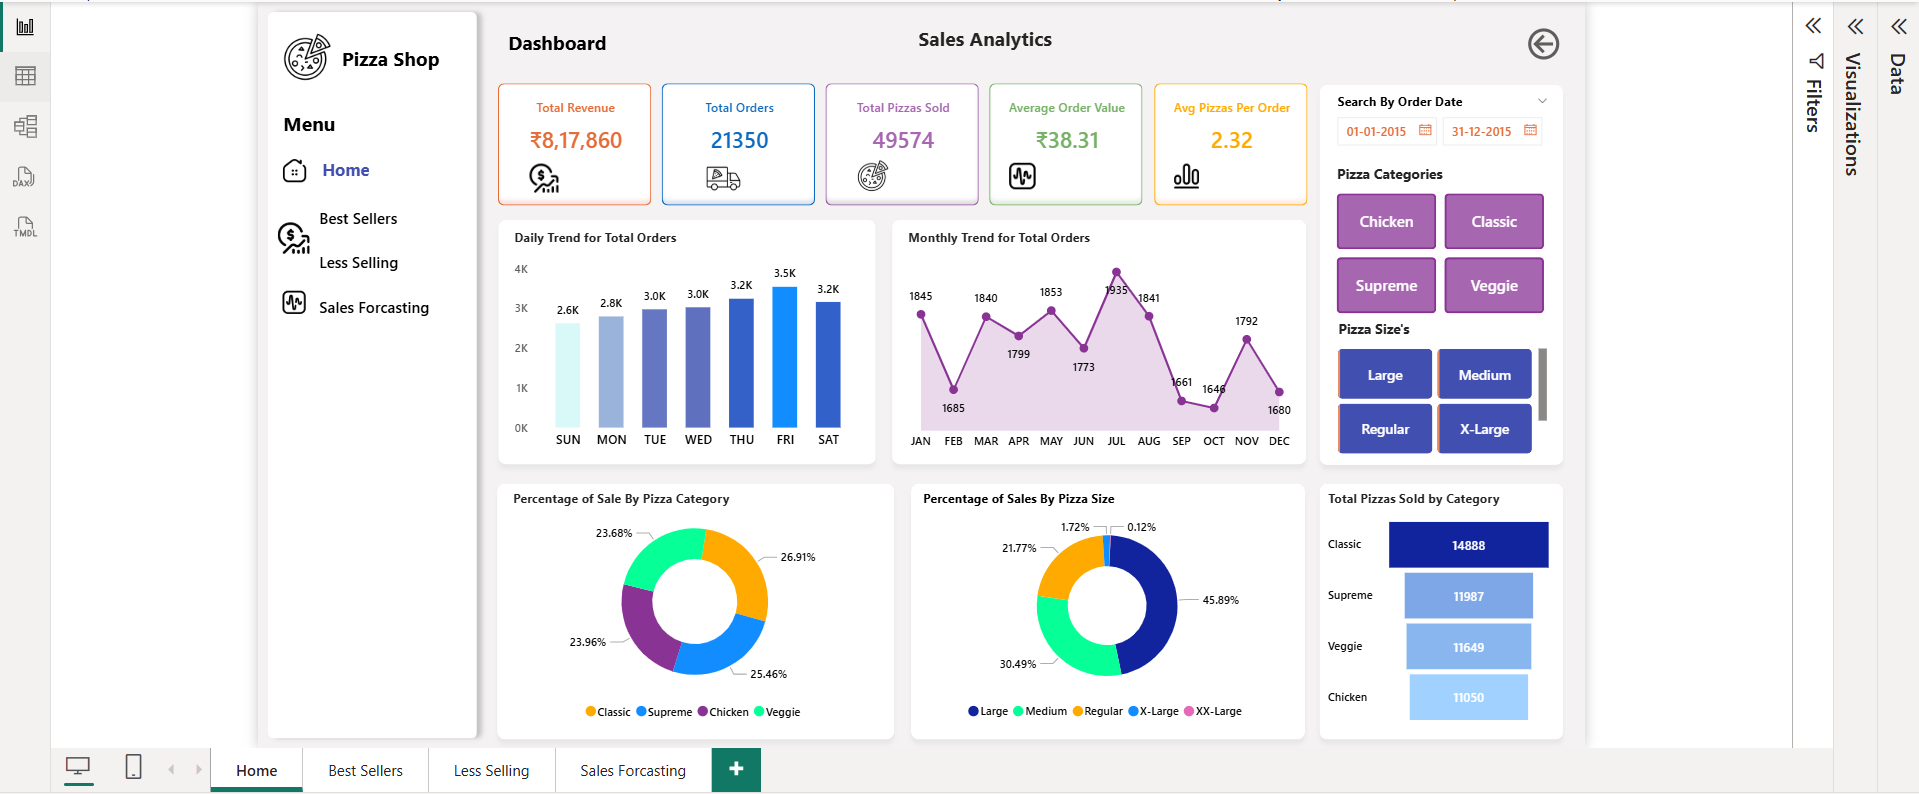

The dashboard page shown, as its layout file describes it:
{"tool":"powerbi","page":{"name":"Home","canvas":[1280,720],"ordinal":0},"visuals":[{"type":"shape","box":[0,0,220.8,720.2],"z":0},{"type":"textbox","box":[76,37,122,37],"z":1000},{"type":"image","box":[19,23,57,60],"z":2000},{"type":"textbox","box":[236.2,21.2,150,37.5],"z":3000},{"type":"cardVisual","fields":{"Data":["pizza_sales.Total Revenue"]},"box":[227.4,73.6,158.2,128.4],"z":4000,"group":"g1"},{"type":"shape","box":[222.7,201.8,381.8,253.6],"z":4000},{"type":"cardVisual","fields":{"Data":["pizza_sales.Total Orders"]},"box":[385.6,73.6,158.2,128.4],"z":5000,"group":"g1"},{"type":"shape","box":[603.6,201.8,417.3,253.6],"z":5000},{"type":"cardVisual","fields":{"Data":["pizza_sales.Avg Order Value"]},"box":[702,73.6,158.2,128.4],"z":6000,"group":"g1"},{"type":"columnChart","title":"Daily Trend for Total Orders ","fields":{"Category":["pizza_sales.Order Day"],"Y":["pizza_sales.Total Orders"]},"box":[242,218,343,222],"z":6000},{"type":"cardVisual","fields":{"Data":["pizza_sales.Total Pizzas Sold"]},"box":[543.6,73.6,158.2,128],"z":7000,"group":"g1"},{"type":"areaChart","title":"Monthly Trend for Total Orders","fields":{"Category":["pizza_sales.Order Month"],"Y":["pizza_sales.Total Orders"]},"box":[622,218,381,222],"z":7000},{"type":"cardVisual","fields":{"Data":["pizza_sales.Avg Pizza Per Order"]},"box":[860.2,73.6,158.2,128.4],"z":8000,"group":"g1"},{"type":"shape","box":[221.8,455.5,400.9,264.5],"z":8000},{"type":"shape","box":[620.9,455.5,398.2,264.5],"z":9000},{"type":"donutChart","title":"Percentage of Sale By Pizza Category","fields":{"Category":["pizza_sales.pizza_category"],"Y":["pizza_sales.Total Revenue"]},"box":[241,471,361,232],"z":10000},{"type":"donutChart","title":"Percentage of Sales By Pizza Size","fields":{"Y":["pizza_sales.Total Revenue"],"Category":["pizza_sales.pizza_size"]},"box":[637.3,470.9,365.5,231.8],"z":11000},{"type":"group","id":"g1","title":"Group 1","box":[227.4,73.6,791.1,128.4],"z":12000},{"type":"shape","box":[1016.4,70.9,252.7,384.5],"z":13000},{"type":"slicer","fields":{"Values":["pizza_sales.order_date"]},"box":[1029.2,83.3,228.3,100.8],"z":14000},{"type":"textbox","box":[19,100,150,38],"z":15000},{"type":"image","box":[19.2,146,32.4,33.6],"z":16000},{"type":"pageNavigator","box":[51.9,143.6,153.2,176.1],"z":17000},{"type":"shape","box":[1016.4,455.5,252.7,264.5],"z":18000},{"type":"funnel","title":"Total Pizzas Sold by Category","fields":{"Category":["pizza_sales.pizza_category"],"Y":["pizza_sales.Total Pizzas Sold"]},"box":[1028,471,228,232],"z":19000},{"type":"advancedSlicerVisual","title":"Pizza Categories","fields":{"Values":["pizza_sales.pizza_category"]},"box":[1035.8,156.7,211.7,150],"z":20000},{"type":"advancedSlicerVisual","title":"Pizza Size''s","fields":{"Values":["pizza_sales.pizza_size"]},"box":[1037.5,305.8,211.7,134.2],"z":21000},{"type":"image","box":[14.5,209.9,39.8,53.1],"z":22000},{"type":"image","box":[10.9,289.5,48.3,32.6],"z":23000},{"type":"actionButton","box":[1221.2,20,47.5,40],"z":24000},{"type":"textbox","box":[605,18,195,38],"z":25000}]}

Visuals, with their boxes on the page's 1280x720 design canvas (x1, y1, x2, y2). These are canvas units, not pixel positions in the 1919x794 screenshot, which may show the page scaled, cropped or inside an application window:
shape: left=0, top=0, right=221, bottom=720
textbox: left=76, top=37, right=198, bottom=74
image: left=19, top=23, right=76, bottom=83
textbox: left=236, top=21, right=386, bottom=59
cardVisual - pizza_sales.Total Revenue: left=227, top=74, right=386, bottom=202
shape: left=223, top=202, right=604, bottom=455
cardVisual - pizza_sales.Total Orders: left=386, top=74, right=544, bottom=202
shape: left=604, top=202, right=1021, bottom=455
cardVisual - pizza_sales.Avg Order Value: left=702, top=74, right=860, bottom=202
"Daily Trend for Total Orders " columnChart: left=242, top=218, right=585, bottom=440
cardVisual - pizza_sales.Total Pizzas Sold: left=544, top=74, right=702, bottom=202
"Monthly Trend for Total Orders" areaChart: left=622, top=218, right=1003, bottom=440
cardVisual - pizza_sales.Avg Pizza Per Order: left=860, top=74, right=1018, bottom=202
shape: left=222, top=456, right=623, bottom=720
shape: left=621, top=456, right=1019, bottom=720
"Percentage of Sale By Pizza Category" donutChart: left=241, top=471, right=602, bottom=703
"Percentage of Sales By Pizza Size" donutChart: left=637, top=471, right=1003, bottom=703
"Group 1" group: left=227, top=74, right=1018, bottom=202
shape: left=1016, top=71, right=1269, bottom=455
slicer - pizza_sales.order_date: left=1029, top=83, right=1258, bottom=184
textbox: left=19, top=100, right=169, bottom=138
image: left=19, top=146, right=52, bottom=180
pageNavigator: left=52, top=144, right=205, bottom=320
shape: left=1016, top=456, right=1269, bottom=720
"Total Pizzas Sold by Category" funnel: left=1028, top=471, right=1256, bottom=703
"Pizza Categories" advancedSlicerVisual: left=1036, top=157, right=1248, bottom=307
"Pizza Size''s" advancedSlicerVisual: left=1038, top=306, right=1249, bottom=440
image: left=14, top=210, right=54, bottom=263
image: left=11, top=290, right=59, bottom=322
actionButton: left=1221, top=20, right=1269, bottom=60
textbox: left=605, top=18, right=800, bottom=56
